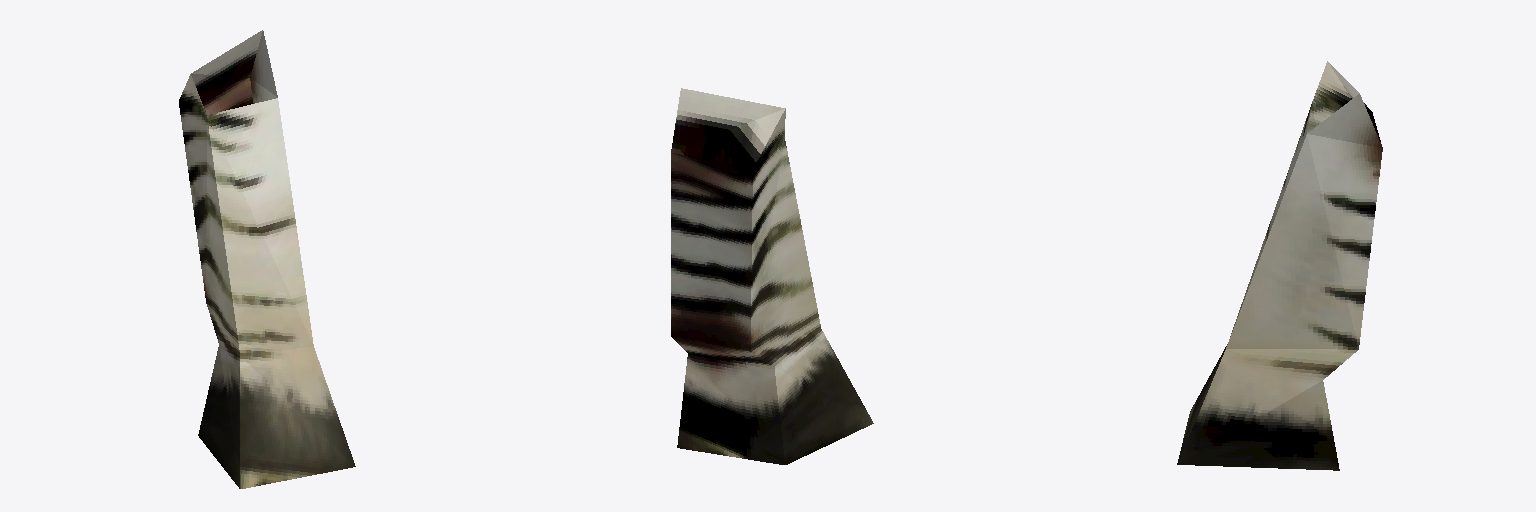
3 views of the same model, side by side, from view 1: azimuth 30°, elevation 25°; view 2: azimuth 150°, elevation 25°; view 3: azimuth 270°, elevation 25° (orthographic).
Parts seen in each view (by area): view 1: ZBRD; view 2: ZBRD; view 3: ZBRD.
Part boxes in pixels (bbox=[...]): ZBRD: bbox=[179, 30, 355, 488]; ZBRD: bbox=[671, 88, 873, 464]; ZBRD: bbox=[1177, 61, 1382, 470].
Size of the model in its own units: 0.2203 by 0.6416 by 0.3222.
Materials: 1 (1 with a texture image).